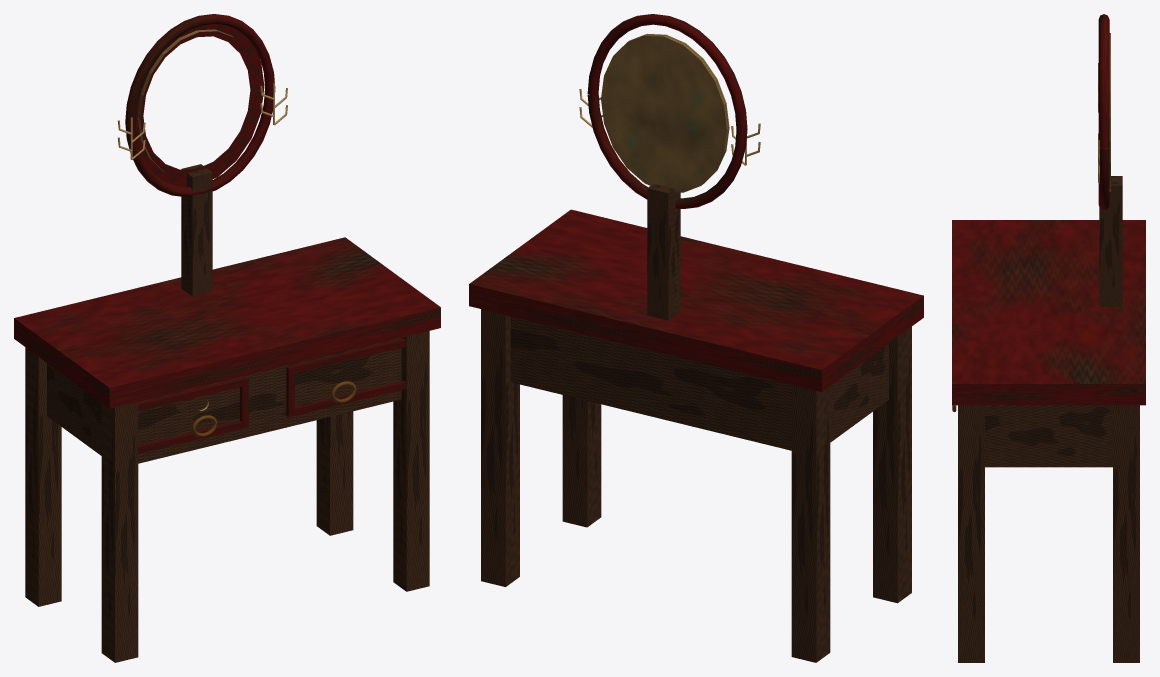
The model's file is dresser.glb.
The picture shows the model from 3 angles, left to right: view 1: azimuth 30°, elevation 25°; view 2: azimuth 150°, elevation 25°; view 3: azimuth 270°, elevation 25°; orthographic projection. The views are drawn at different scales.
Parts seen in each view (by area): view 1: Top, BodyF, Art_BurntLacquer, Leg_-44_20, Leg_44_20, Leg_-44_-20, MirrorFrame, Leg_44_-20, MirrorPost, Art_OldGoldThread; view 2: Top, BodyF, MirrorGlass, Leg_-44_-20, Leg_44_-20, Leg_-44_20, Art_BurntLacquer, Leg_44_20, MirrorPost; view 3: Top, BodyF, Leg_44_-20, Leg_44_20, MirrorPost, Art_BurntLacquer, MirrorGlass.
Part boxes in pixels (x1,y1,x2,y2): Top: [14, 237, 440, 408]; BodyF: [47, 337, 401, 463]; Art_BurntLacquer: [125, 14, 405, 453]; Leg_-44_20: [101, 402, 138, 662]; Leg_44_20: [393, 331, 429, 591]; Leg_-44_-20: [25, 347, 61, 606]; MirrorFrame: [135, 24, 264, 186]; Leg_44_-20: [316, 411, 353, 535]; MirrorPost: [181, 164, 212, 296]; Art_OldGoldThread: [117, 82, 287, 159]; Top: [469, 209, 923, 392]; BodyF: [510, 316, 888, 450]; MirrorGlass: [601, 33, 729, 192]; Leg_-44_-20: [791, 385, 830, 662]; Leg_44_-20: [481, 309, 519, 586]; Leg_-44_20: [873, 326, 911, 603]; Art_BurntLacquer: [587, 14, 747, 208]; Leg_44_20: [562, 395, 601, 527]; MirrorPost: [647, 183, 680, 320]; Top: [952, 220, 1145, 405]; BodyF: [985, 405, 1112, 467]; Leg_44_-20: [1113, 405, 1139, 662]; Leg_44_20: [958, 405, 984, 662]; MirrorPost: [1099, 176, 1122, 306]; Art_BurntLacquer: [1098, 14, 1109, 210]; MirrorGlass: [1106, 33, 1110, 191].
Size of what is drawn, in the model's own units: 1 by 1.6 by 0.5.
Materials: 7 (5 with a texture image).
